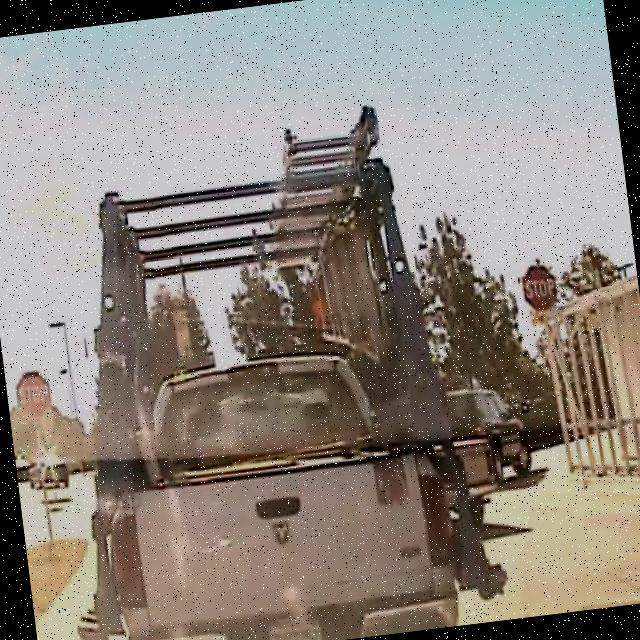Stop: (12, 370, 54, 421), (518, 263, 560, 314)
